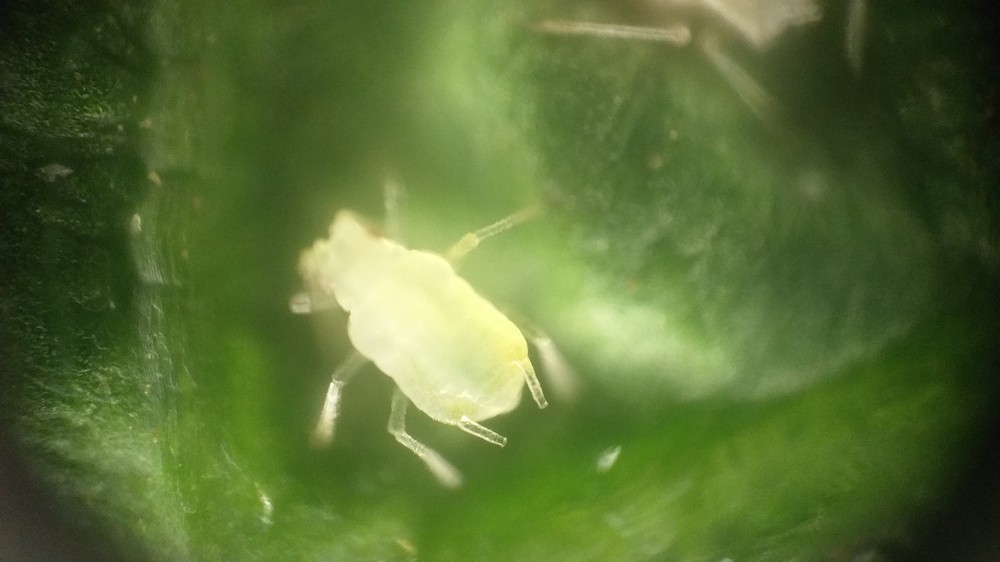Pulgon: (253, 170, 656, 517)
